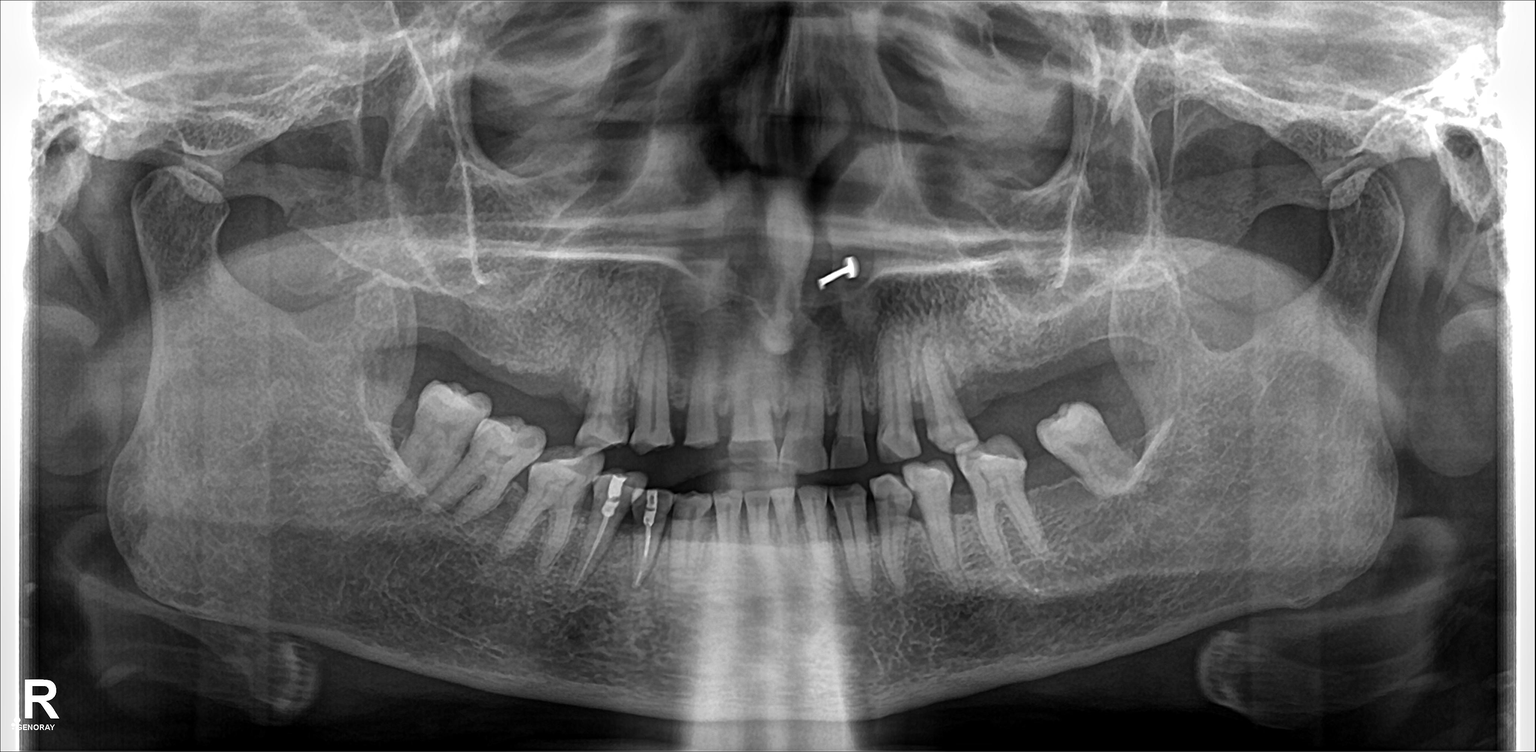Dental Caries: (834, 441, 864, 468)
Endodontically Treated Tooth: (596, 471, 632, 579), (639, 480, 670, 591)
Missing Tooth: (963, 341, 1010, 432), (520, 307, 562, 389), (397, 294, 438, 374), (482, 303, 517, 389), (1021, 449, 1061, 523), (1115, 396, 1158, 463), (1088, 302, 1122, 386), (1011, 322, 1043, 405), (447, 298, 481, 374), (1048, 311, 1083, 384)
